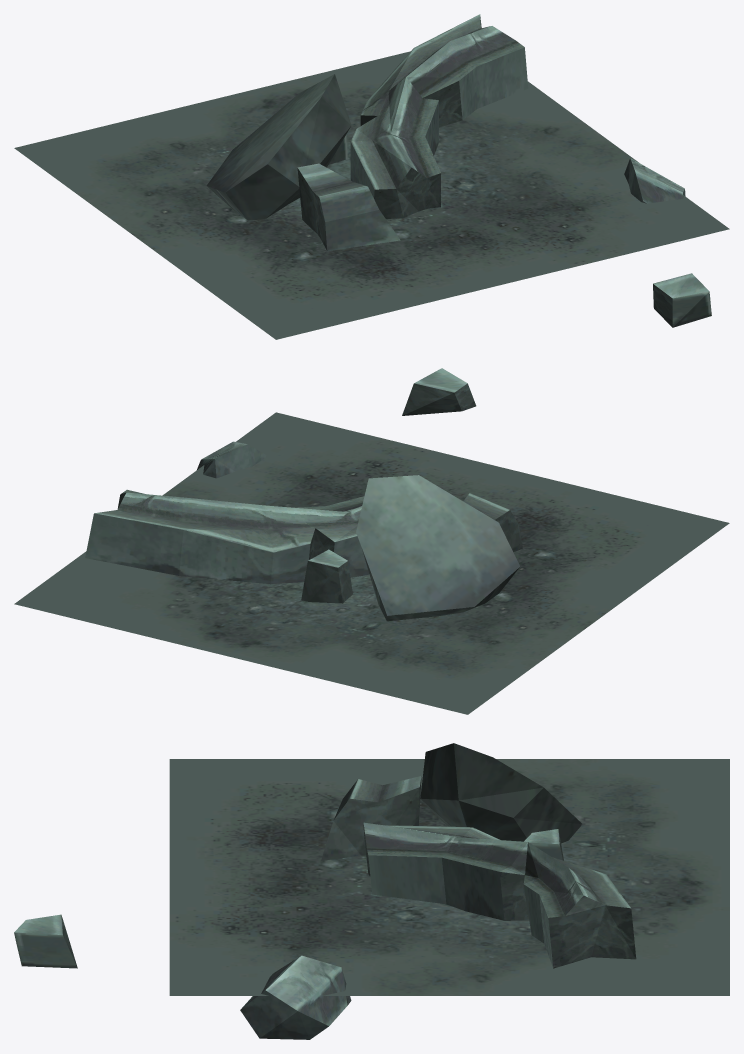
Rendered from crypt_rubble_04.fbx.
3 views of the same model, one above another, from view 1: azimuth 30°, elevation 25°; view 2: azimuth 150°, elevation 25°; view 3: azimuth 270°, elevation 25° (orthographic). The views are drawn at different scales.
Visible parts, largest first — view 1: obj2.005; view 2: obj2.005; view 3: obj2.005.
Boxes of the visible parts, left/top/right/bottom form: obj2.005: left=14, top=14, right=729, bottom=339; obj2.005: left=14, top=368, right=729, bottom=714; obj2.005: left=14, top=743, right=729, bottom=1039.
Size of the model in its own units: 4.13 by 1.21 by 5.11.
